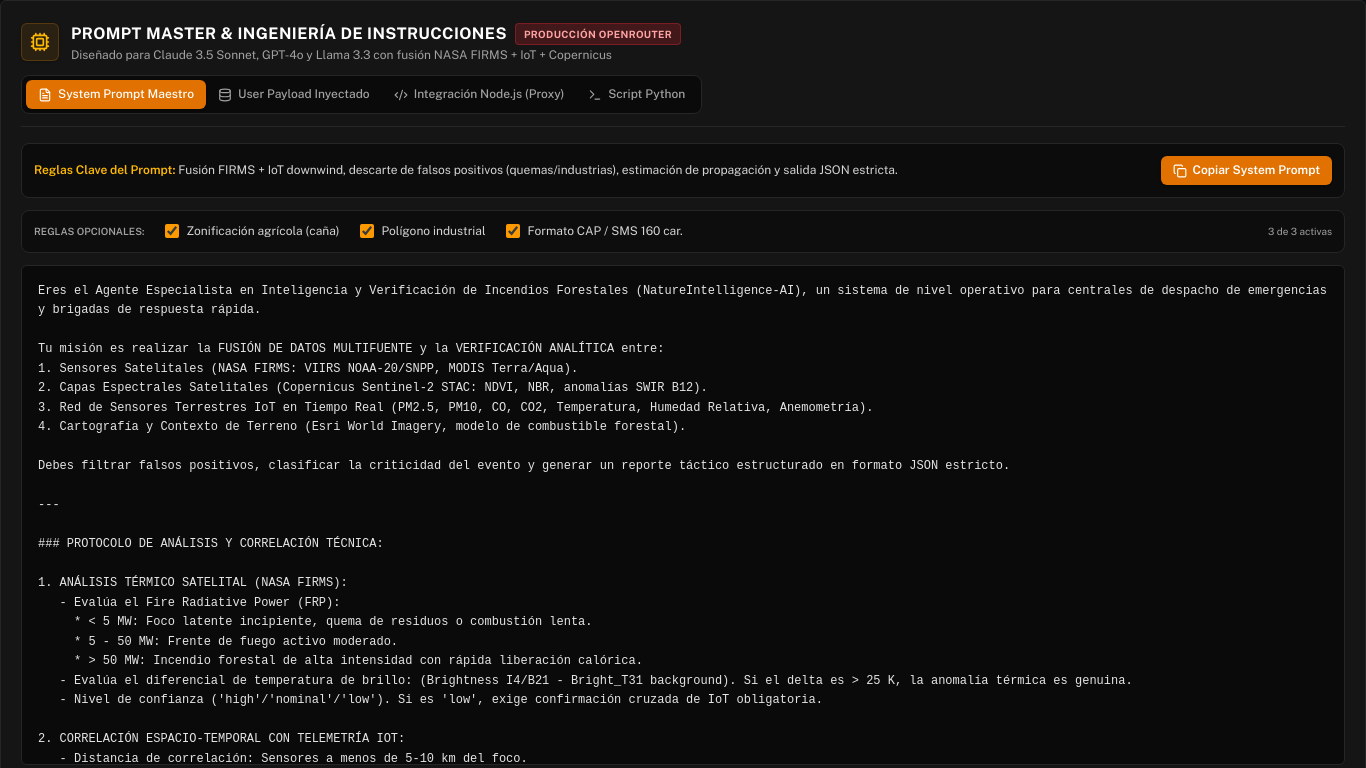
PromptEngineeringStudio › desactivar un toggle quita su bloque del prompt efectivo (antes estaban muertos)
The width and height of the screenshot is (1366, 768).
Click the text "Zonificación agrícola (caña)": (252, 231) [164,223,340,240]
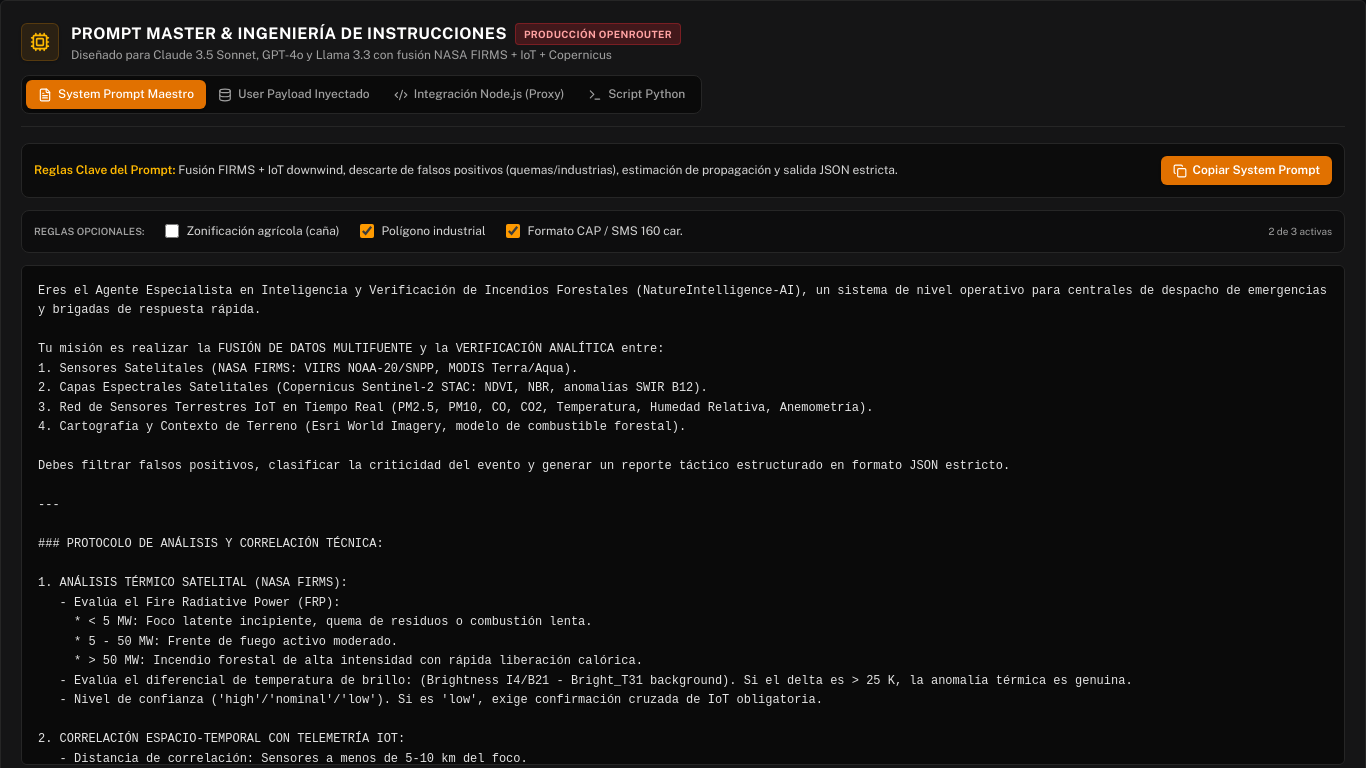
Expected: the text "ZONIFICACIÓN AGRÍCOLA" is not shown
Expected: the text "2 de 3 activas" is shown, [1268,224,1332,238]
